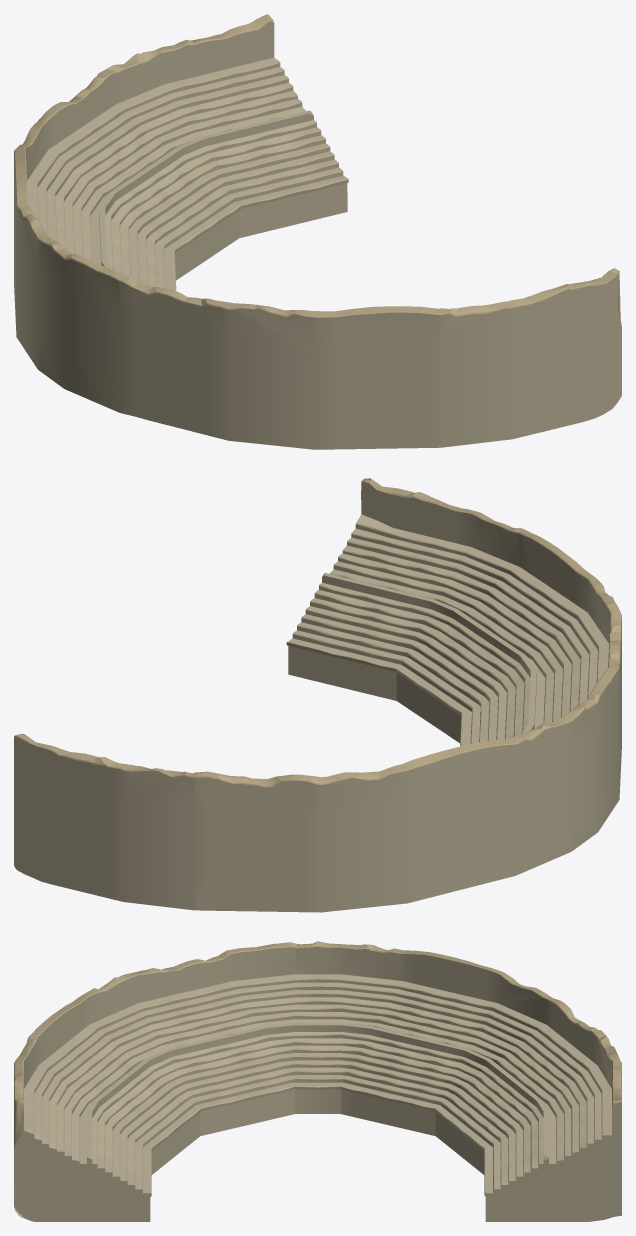
The model's file is HypodromeCurve.fbx.
The picture shows the model from 3 angles, top to bottom: view 1: azimuth 30°, elevation 25°; view 2: azimuth 150°, elevation 25°; view 3: azimuth 270°, elevation 25°; orthographic projection. The views are drawn at different scales.
Visible parts, largest first — view 1: Cube.029_dmg; view 2: Cube.029_dmg; view 3: Cube.029_dmg.
Part boxes in pixels (bbox=[...]): Cube.029_dmg: bbox=[14, 14, 621, 449]; Cube.029_dmg: bbox=[14, 478, 621, 912]; Cube.029_dmg: bbox=[14, 941, 621, 1221].
Size of the model in its own units: 13447 by 2963 by 8680.
